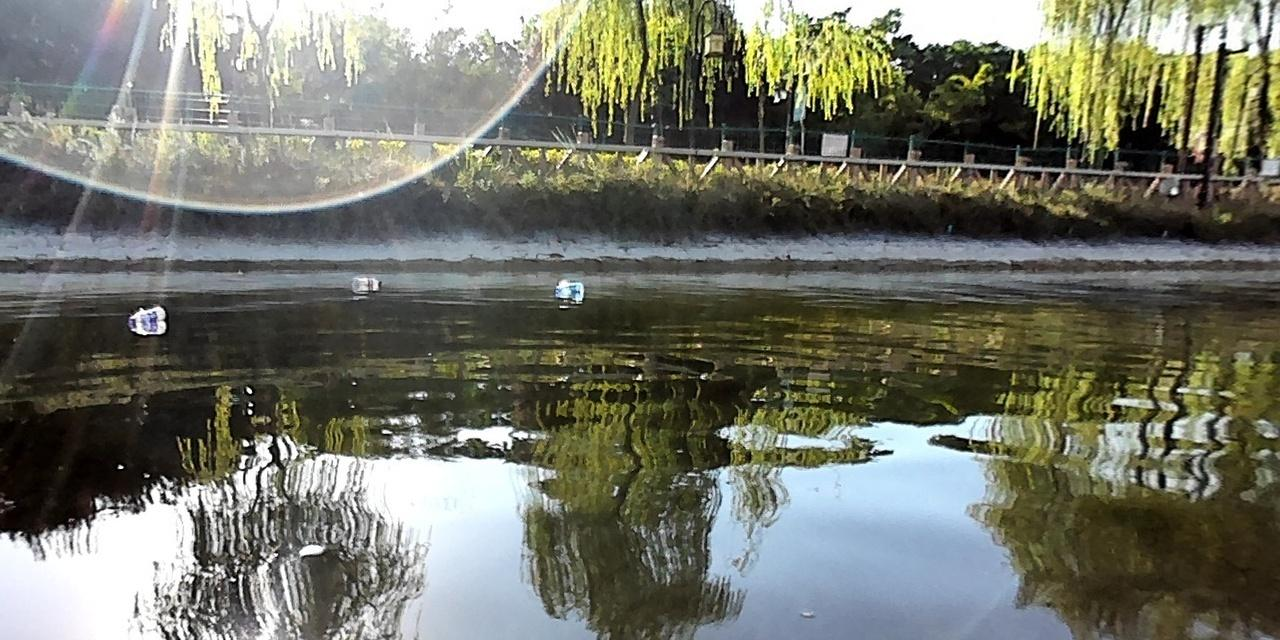bottle: (126, 302, 169, 328), (550, 278, 586, 293), (348, 274, 383, 287)
